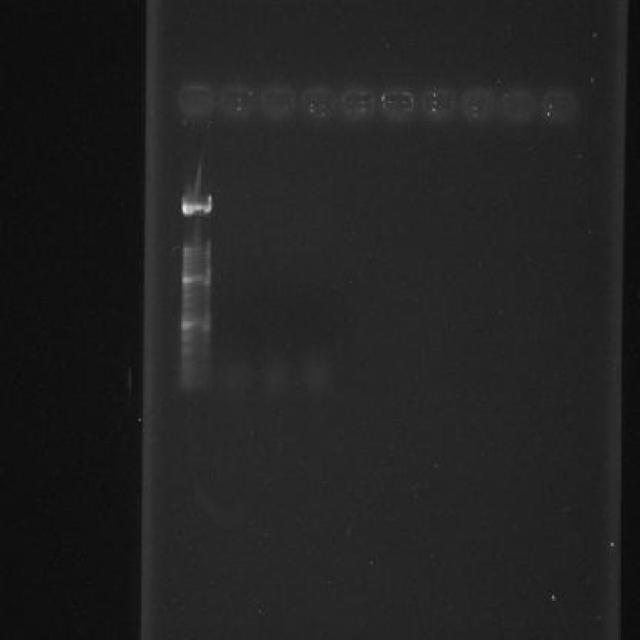B: (300, 358, 334, 394), (264, 362, 296, 396)
L: (174, 73, 584, 133)
M: (176, 150, 216, 402)
P: (180, 193, 214, 216), (178, 238, 212, 260), (178, 374, 214, 392), (179, 316, 212, 333), (180, 344, 212, 360), (178, 332, 212, 346), (178, 361, 214, 374), (180, 274, 211, 286)
Pc: (300, 82, 338, 124), (540, 85, 580, 124), (179, 78, 213, 122), (338, 82, 376, 120), (260, 80, 296, 120), (379, 84, 416, 121), (220, 82, 254, 122), (501, 89, 537, 122), (460, 88, 496, 120), (421, 88, 454, 121)
